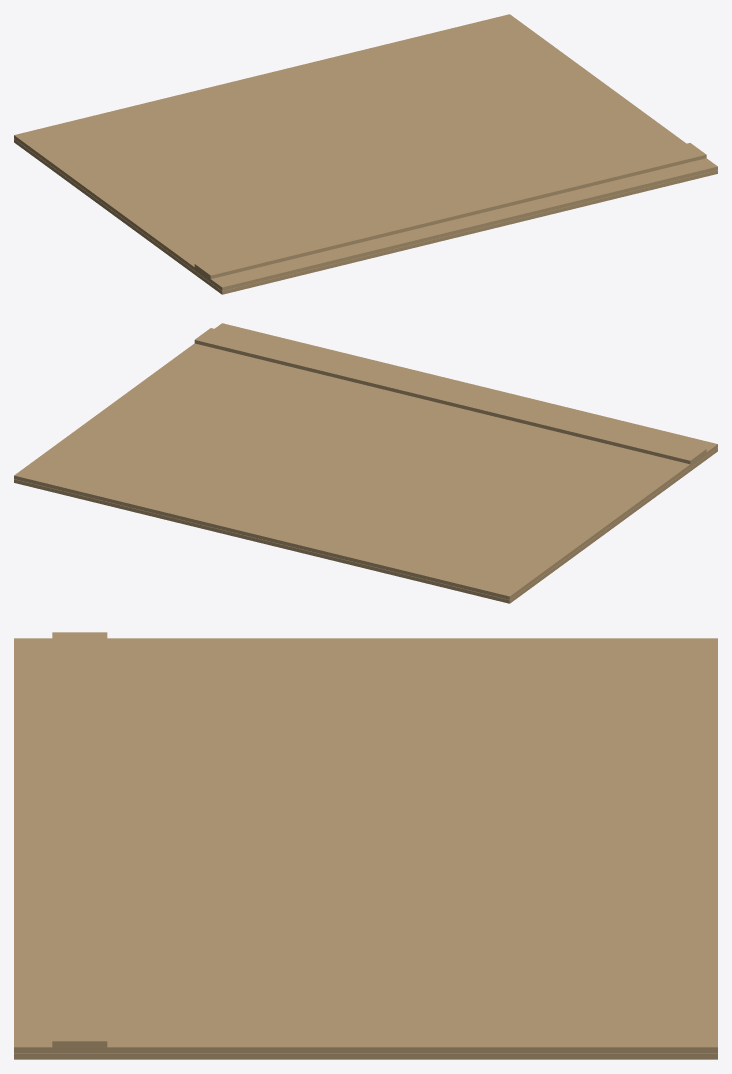
File: paper.glb
The picture shows the model from 3 angles, top to bottom: view 1: azimuth 30°, elevation 25°; view 2: azimuth 150°, elevation 25°; view 3: azimuth 270°, elevation 25°; orthographic projection. The views are drawn at different scales.
Parts seen in each view (by area): view 1: FoldedCasePly_1, UnjoinedSeamLap, FoldedCasePly_0; view 2: FoldedCasePly_1, UnjoinedSeamLap, FoldedCasePly_0; view 3: FoldedCasePly_1, UnjoinedSeamLap, FoldedCasePly_0.
Boxes of the visible parts, x1,y1,x2,y2 form: FoldedCasePly_1: [14, 14, 717, 290]; UnjoinedSeamLap: [194, 143, 706, 278]; FoldedCasePly_0: [14, 139, 717, 294]; FoldedCasePly_1: [14, 323, 717, 599]; UnjoinedSeamLap: [194, 328, 706, 464]; FoldedCasePly_0: [14, 448, 717, 603]; FoldedCasePly_1: [14, 638, 717, 1053]; UnjoinedSeamLap: [52, 632, 107, 1047]; FoldedCasePly_0: [14, 1053, 717, 1059].
Size of the model in its own units: 0.44 by 0.0092 by 0.32.
